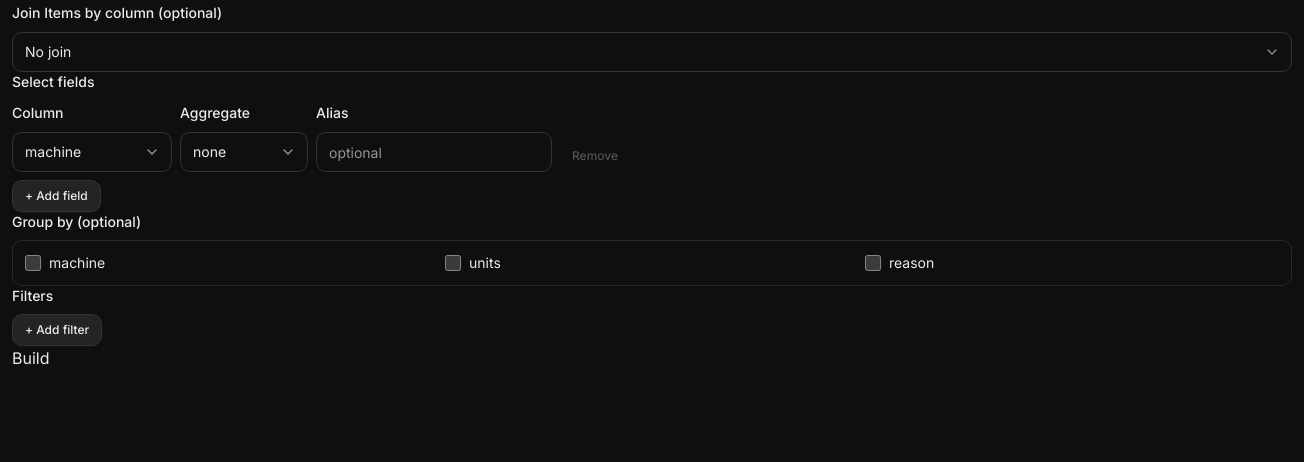
Test case: QueryBuilderFields + useQueryBuilder › can't remove the last select field, and hides order/limit when asked
expect the button "Remove" is disabled: met, box [560,140,630,172]
What coordinates should you click on to do the following:
click the button "+ Add field"
I would click on:
 (56, 196)
Its box is [12,180,101,212].
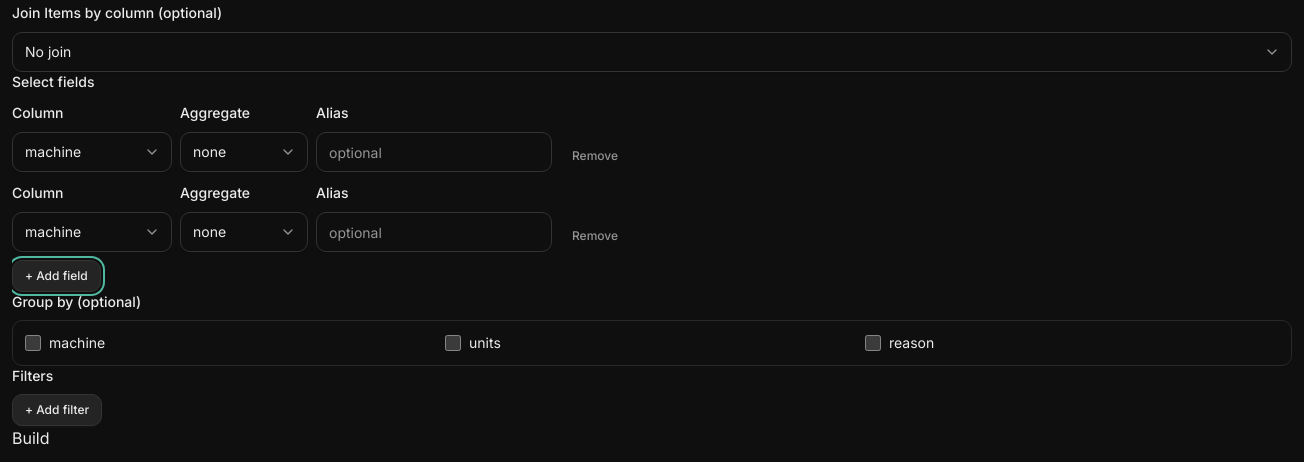
What coordinates should you click on to do the following:
click the 2nd button "Remove"
I would click on:
 (595, 236)
Its box is [560,220,630,252].
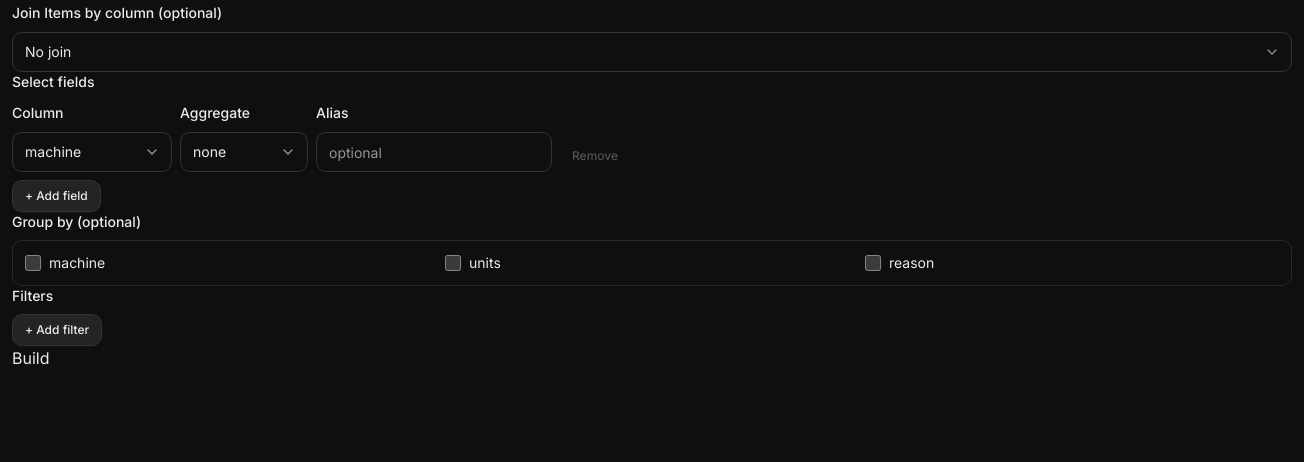
expect the number of buttons "Remove" is 1: met, box [560,140,630,172]
